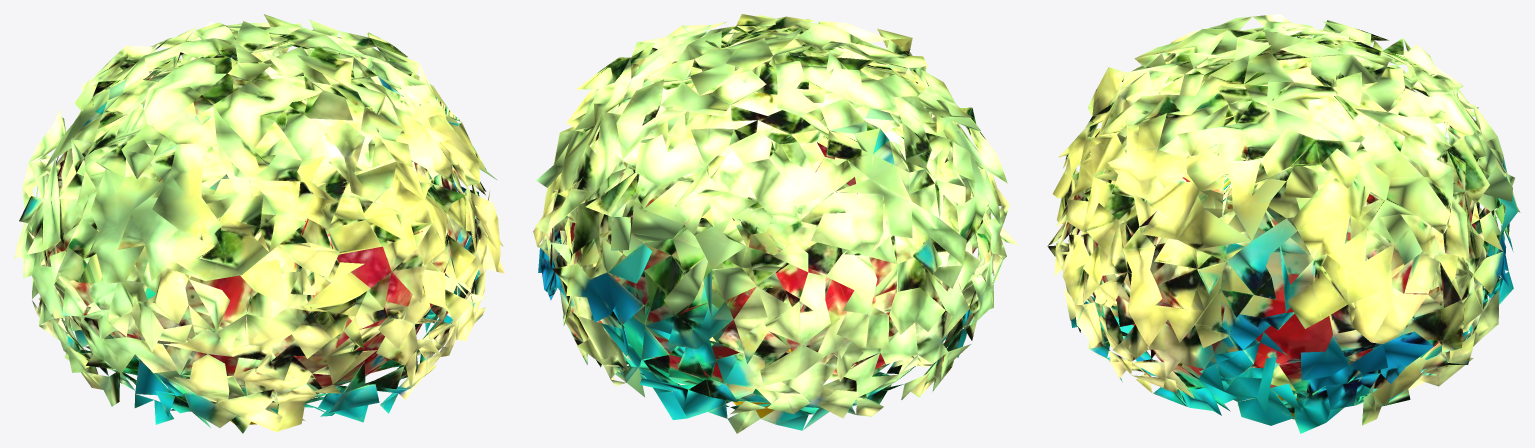
The model's file is clay-bush.glb.
The picture shows the model from 3 angles, left to right: view 1: azimuth 30°, elevation 25°; view 2: azimuth 150°, elevation 25°; view 3: azimuth 270°, elevation 25°; orthographic projection.
Bounding box in the file's own units: 1.89 × 1.59 × 1.89.
1 material, 1 textured.
